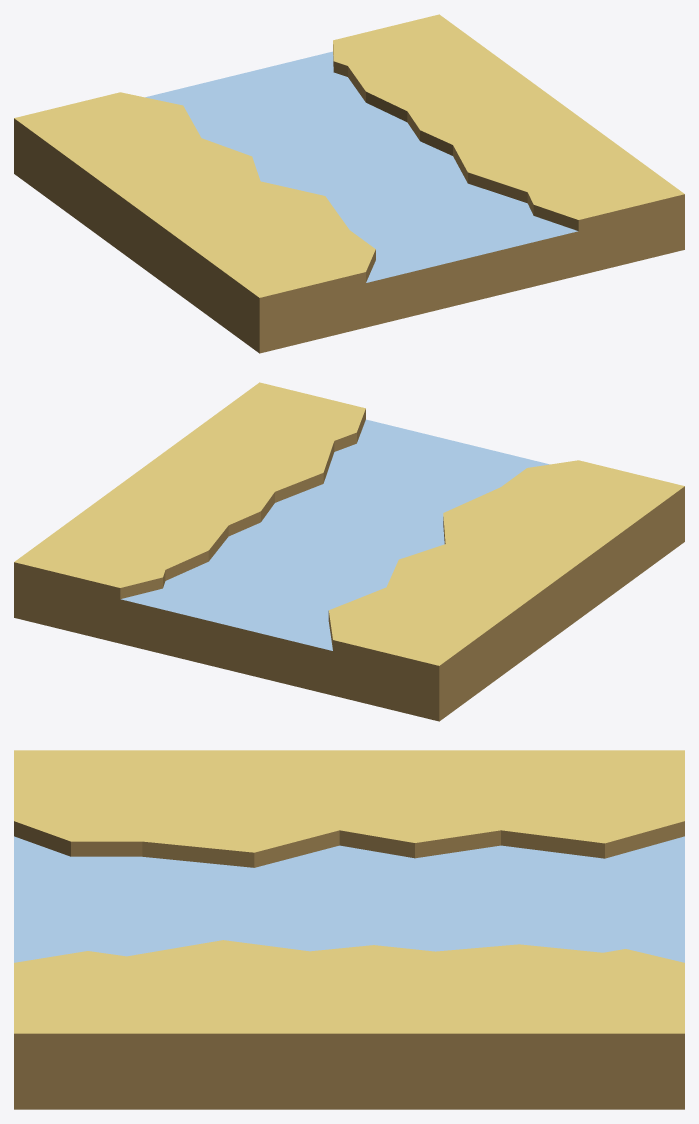
Rendered from Terrain_Tile_Sand_River_02.fbx.
3 renders of one model, top to bottom at view 1: azimuth 30°, elevation 25°; view 2: azimuth 150°, elevation 25°; view 3: azimuth 270°, elevation 25°, orthographic. The views are drawn at different scales.
Parts seen in each view (by area): view 1: Model; view 2: Model; view 3: Model.
Part boxes in pixels (x1,y1,x2,y2): Model: (14, 14, 684, 353); Model: (14, 382, 684, 721); Model: (14, 750, 684, 1109).
Bounding box in the file's own units: 2000 × 250 × 2000.
